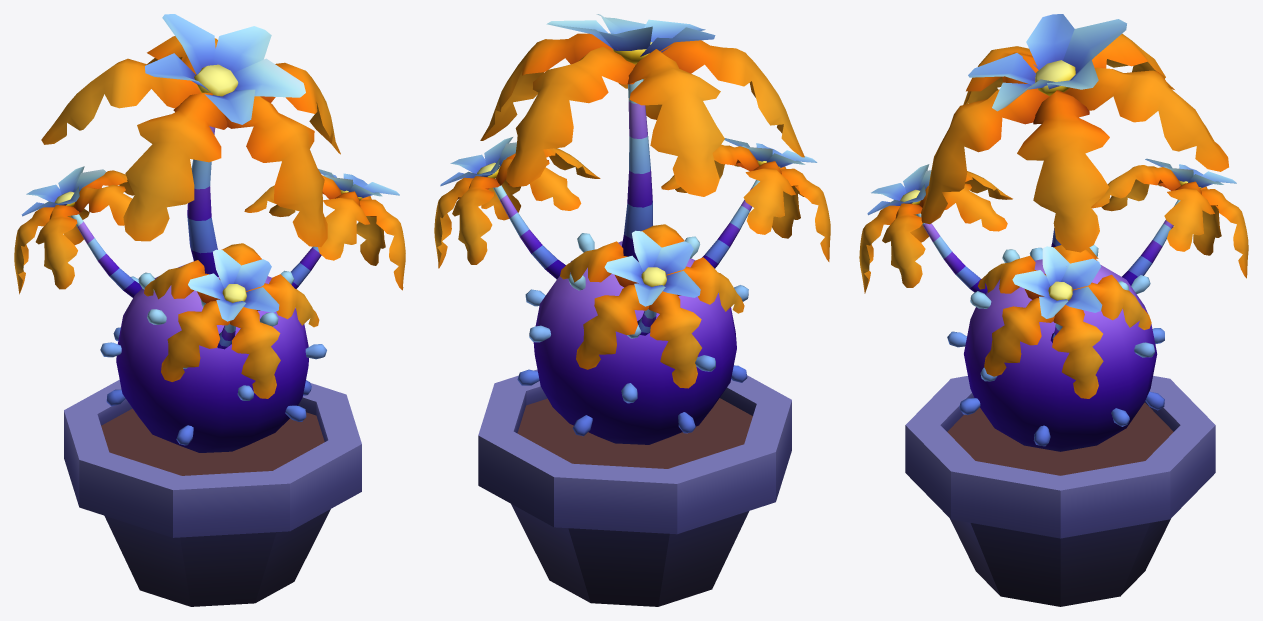
The model's file is wp_wPot_20.fbx.
3 renders of one model, left to right at view 1: azimuth 30°, elevation 25°; view 2: azimuth 150°, elevation 25°; view 3: azimuth 270°, elevation 25°, orthographic. The views are drawn at different scales.
Parts seen in each view (by area): view 1: w_pl20; view 2: w_pl20; view 3: w_pl20.
Part boxes in pixels (<box>): w_pl20: <box>14,14,405,606</box>; w_pl20: <box>434,14,830,606</box>; w_pl20: <box>859,14,1248,606</box>.
Bounding box in the file's own units: 128 × 210 × 137.
